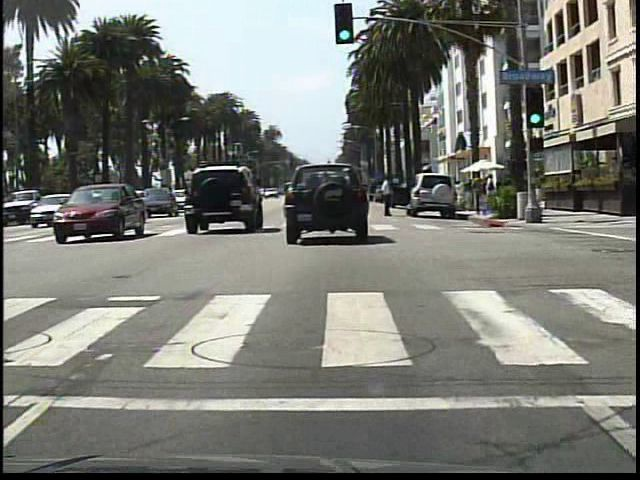person: (376, 168, 399, 220)
